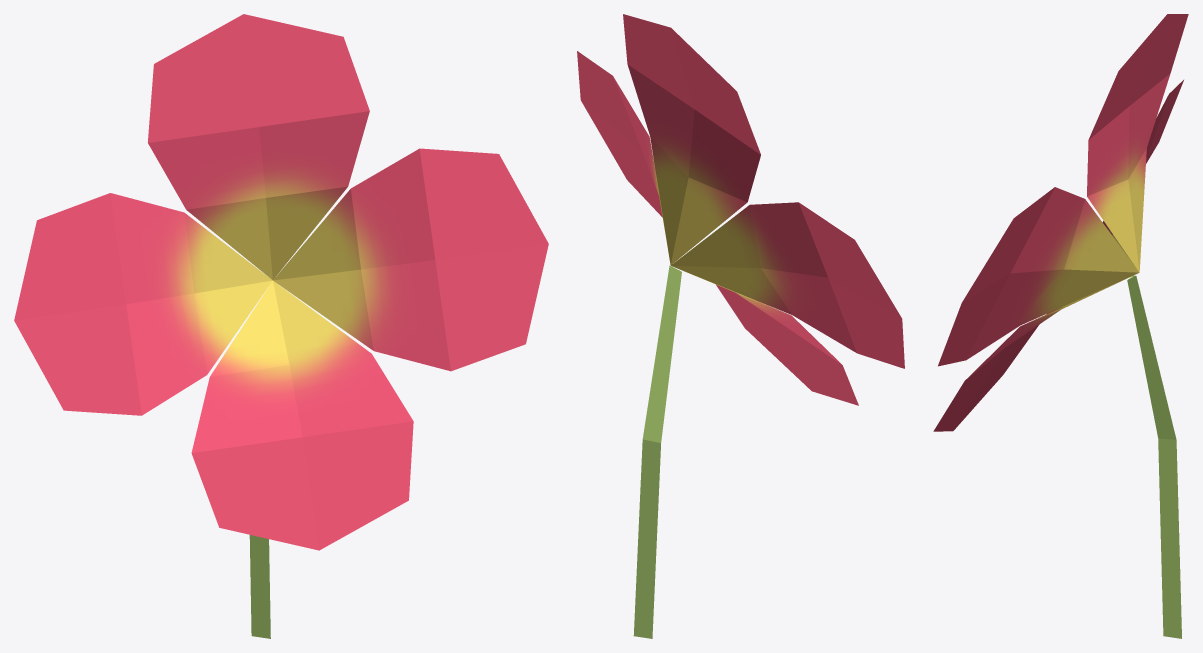
File: Flower_c_TwoS_03.fbx
3 renders of one model, left to right at view 1: azimuth 30°, elevation 25°; view 2: azimuth 150°, elevation 25°; view 3: azimuth 270°, elevation 25°, orthographic. The views are drawn at different scales.
Visible parts, largest first — view 1: Flower_c_TwoS_03; view 2: Flower_c_TwoS_03; view 3: Flower_c_TwoS_03.
Boxes of the visible parts, <box> form: Flower_c_TwoS_03: <box>14,14,548,638</box>; Flower_c_TwoS_03: <box>577,14,904,638</box>; Flower_c_TwoS_03: <box>933,14,1188,638</box>.
Bounding box in the file's own units: 29.62 × 41.13 × 15.6.
